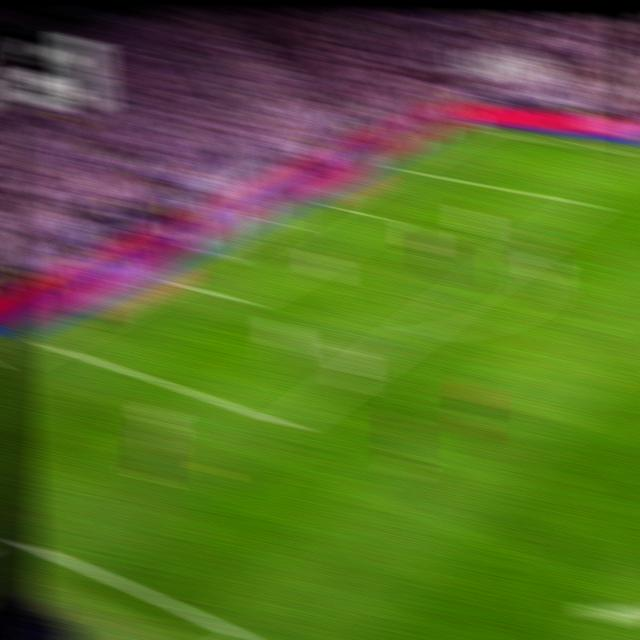bigarea_bottom_inner: (272, 408, 302, 438)
bigarea_bottom_outter: (35, 333, 63, 354)
bigarea_top_inner: (574, 193, 601, 214)
bigarea_top_outter: (387, 159, 412, 176)
bottom_arc_area_intersection: (397, 319, 427, 344)
corner: (459, 121, 486, 136)
smallarea_top_inner: (373, 211, 397, 226)
top_arc_area_intersection: (501, 245, 529, 266)
